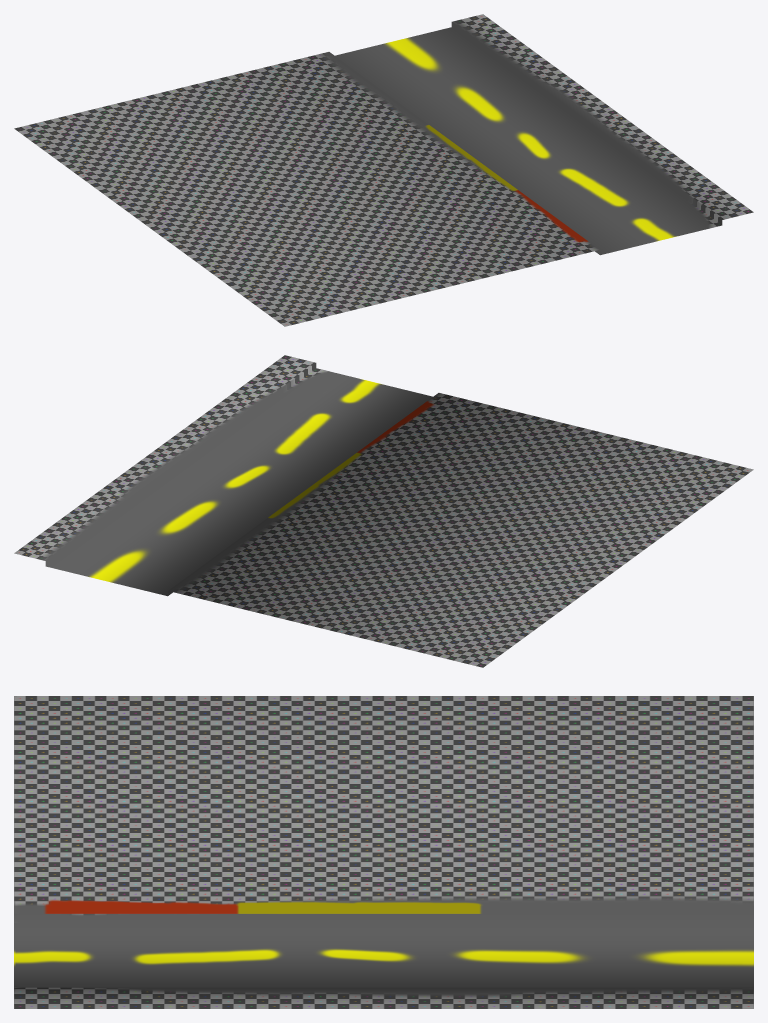
The model's file is onesided.glb.
3 renders of one model, top to bottom at view 1: azimuth 30°, elevation 25°; view 2: azimuth 150°, elevation 25°; view 3: azimuth 270°, elevation 25°, orthographic. The views are drawn at different scales.
Parts seen in each view (by area): view 1: Plane; view 2: Plane; view 3: Plane.
Boxes of the visible parts, x1,y1,x2,y2 form: Plane: [14, 14, 753, 326]; Plane: [14, 355, 753, 667]; Plane: [14, 696, 753, 1008].
Size of the model in its own units: 40 by 0.436 by 40.
Materials: 1 (1 with a texture image).
